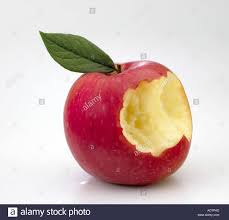damaged_apple: (61, 62, 205, 190)
